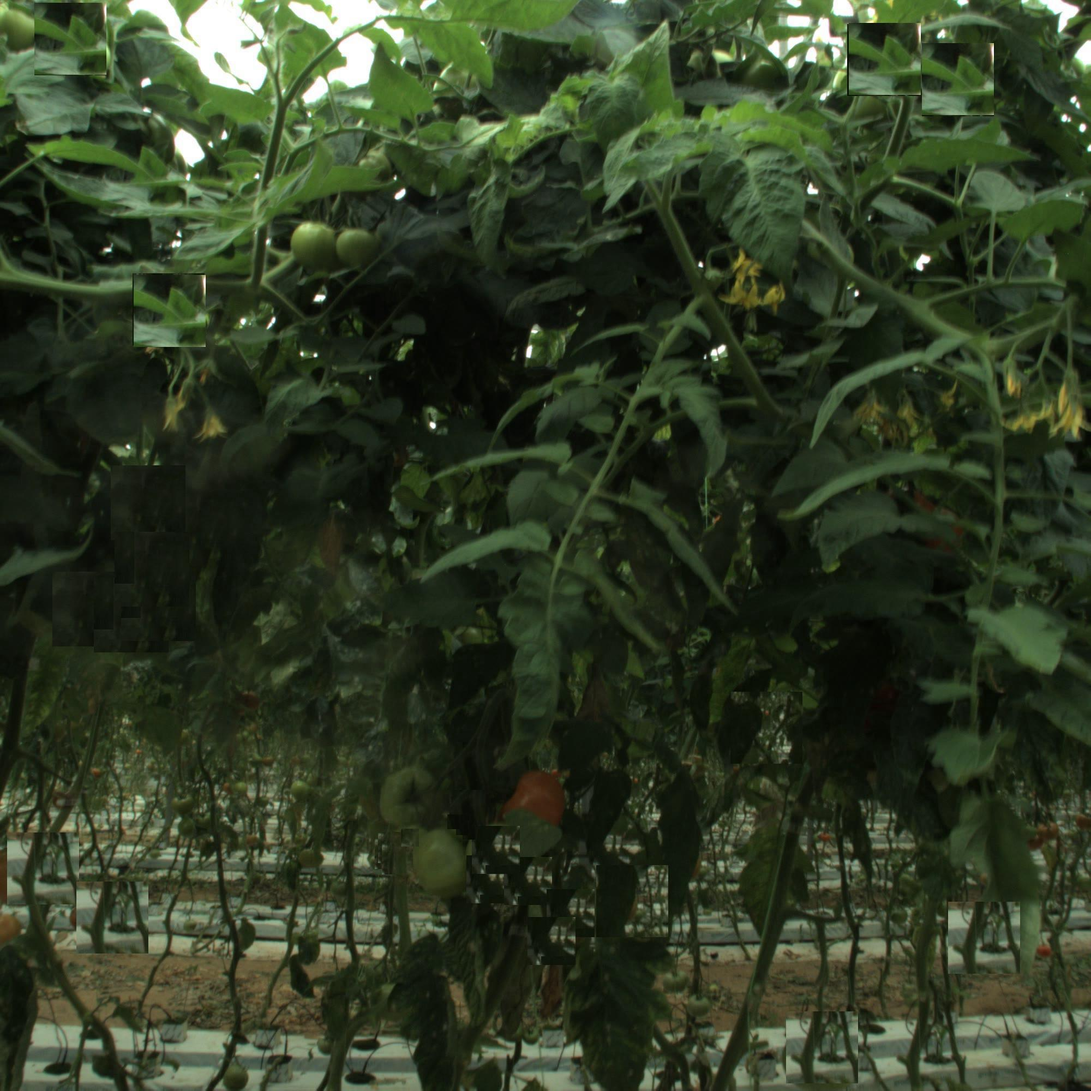['unripe', 'semi-ripe', 'fully-ripe']: (410, 829, 481, 900), (379, 766, 443, 831), (289, 219, 334, 264), (331, 226, 375, 271)
